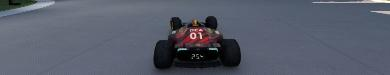Car: (152, 15, 241, 69)
curve: (0, 0, 389, 74)
